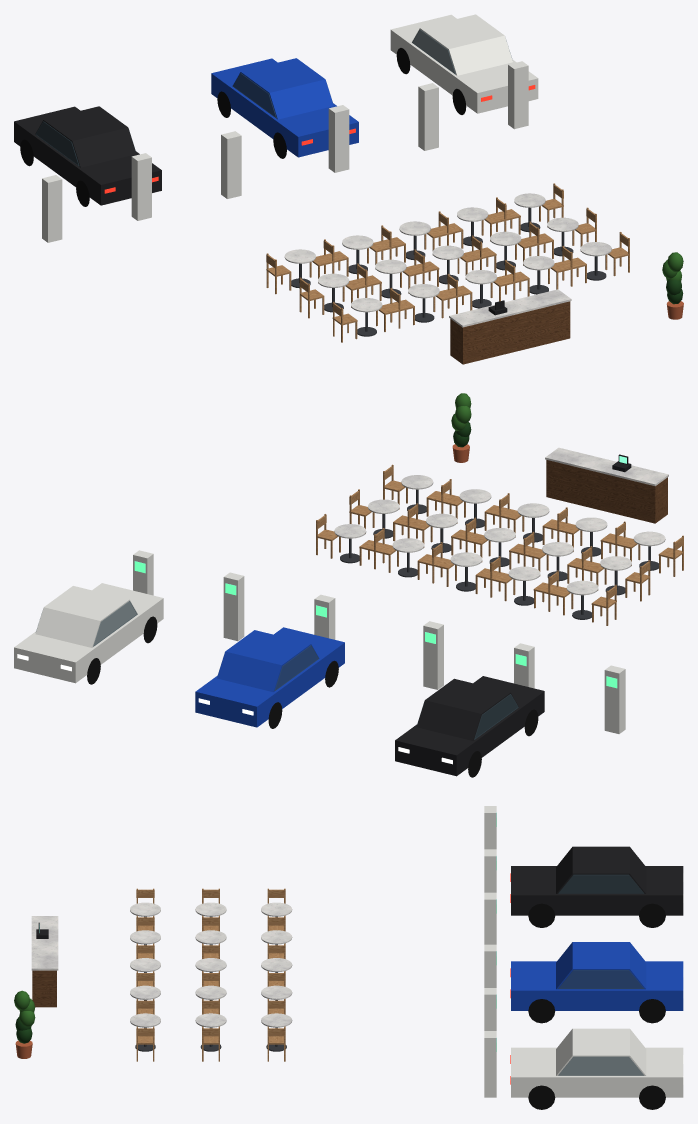
File: i_ev_charging_hub.gltf
3 views of the same model, one above another, from view 1: azimuth 30°, elevation 25°; view 2: azimuth 150°, elevation 25°; view 3: azimuth 270°, elevation 25° (orthographic). The views are drawn at different scales.
Visible parts, largest first — view 1: I_ev_charging_hub; view 2: I_ev_charging_hub; view 3: I_ev_charging_hub.
Part boxes in pixels (left/top/right/bottom): I_ev_charging_hub: left=14, top=14, right=683, bottom=364; I_ev_charging_hub: left=14, top=393, right=683, bottom=777; I_ev_charging_hub: left=14, top=806, right=683, bottom=1109.
Bounding box in the file's own units: 14.12 × 1.74 × 16.35.
17 materials, 3 textured.
